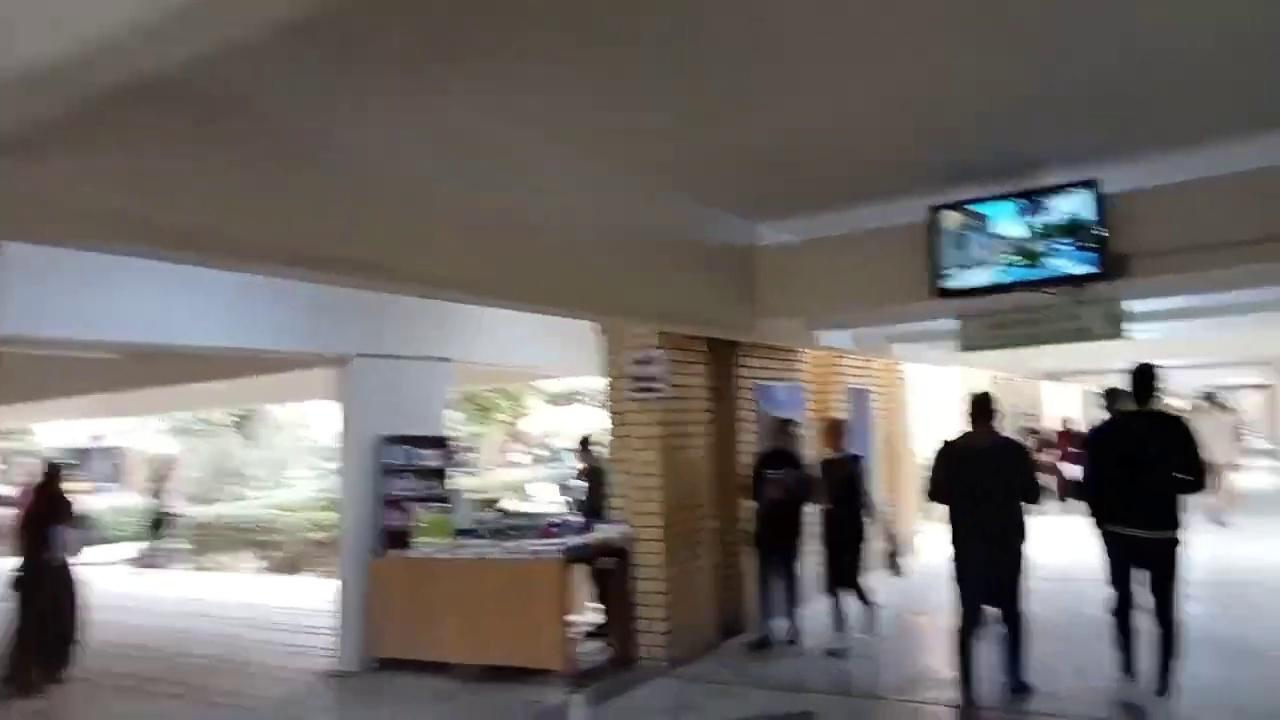person: (1081, 361, 1207, 696), (926, 390, 1040, 710), (9, 460, 79, 695), (814, 416, 881, 657), (745, 416, 813, 652), (570, 435, 609, 638)
tree: (129, 404, 340, 575), (457, 384, 529, 428)
